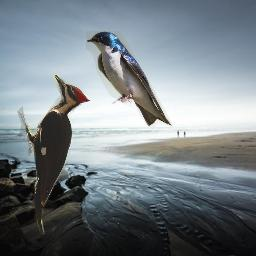Swallow: (86, 31, 173, 127)
Woodpecker: (17, 74, 90, 234)
